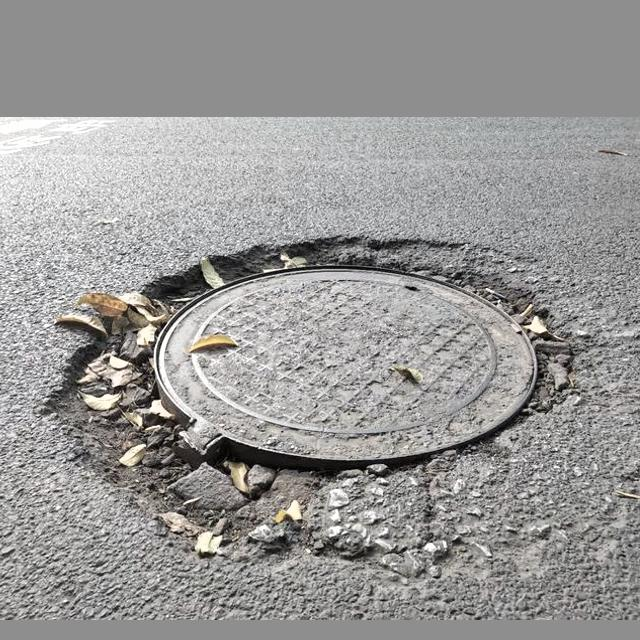circle: (58, 234, 626, 564)
